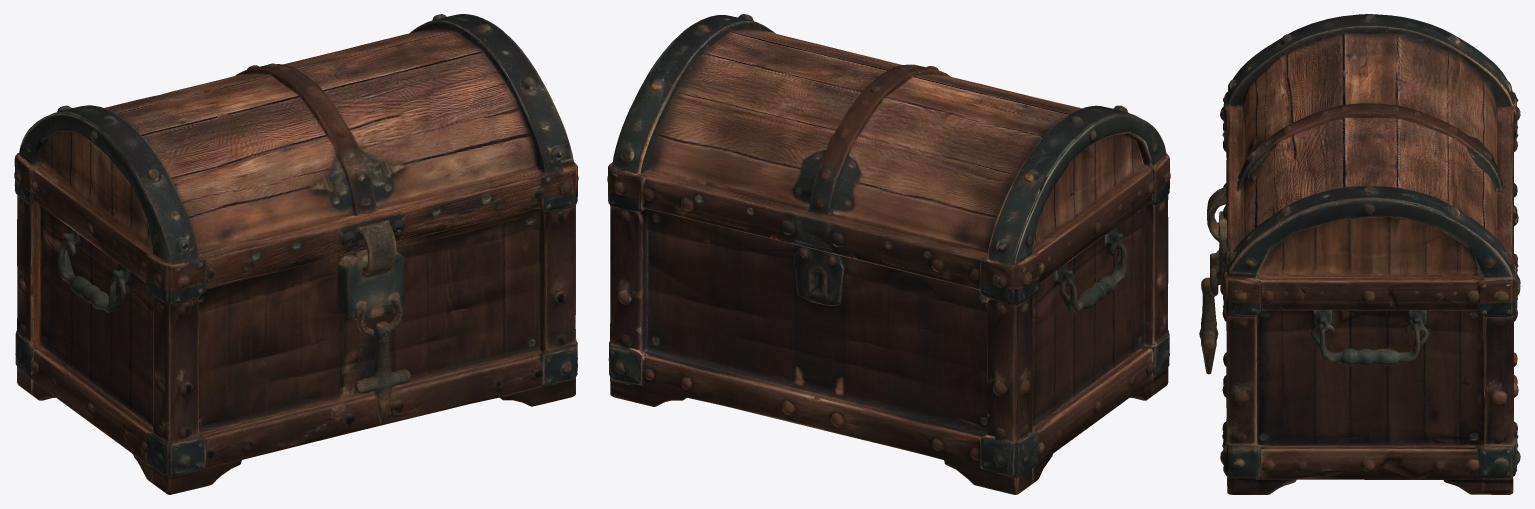
File: TC002_Meshy 6 Preview.glb
3 views of the same model, side by side, from view 1: azimuth 30°, elevation 25°; view 2: azimuth 150°, elevation 25°; view 3: azimuth 270°, elevation 25° (orthographic). The views are drawn at different scales.
Bounding box in the file's own units: 1.91 × 1.36 × 1.32.
Materials: 1 (1 with a texture image).
